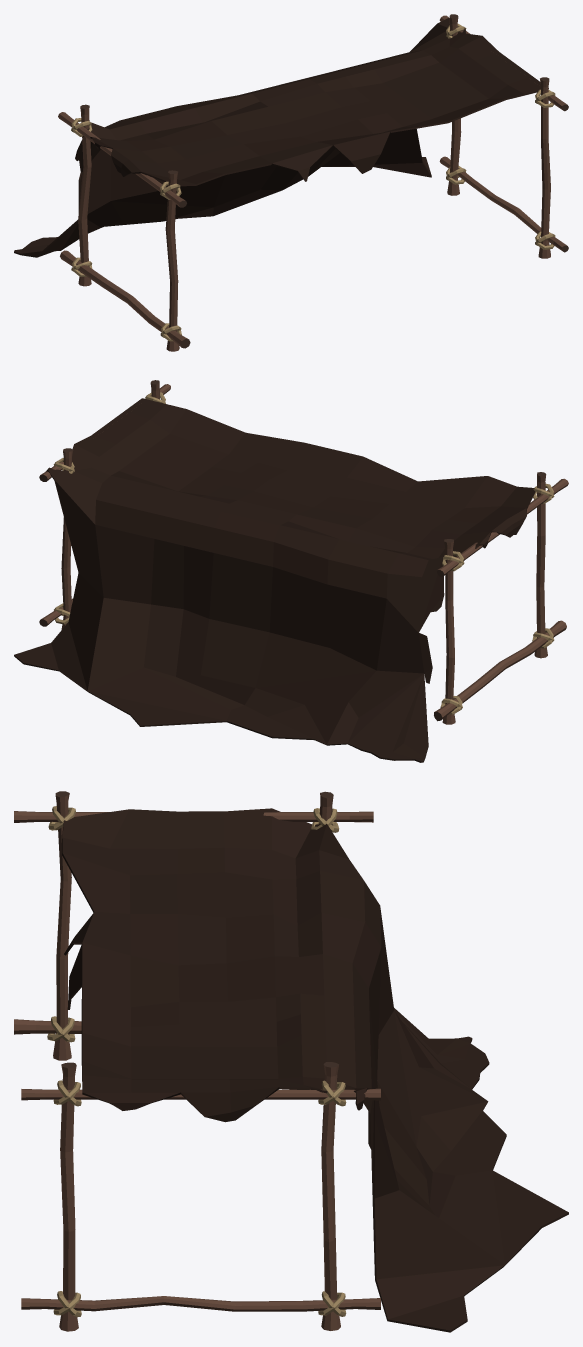
Rendered from Tent_04.gltf.
3 renders of one model, top to bottom at view 1: azimuth 30°, elevation 25°; view 2: azimuth 150°, elevation 25°; view 3: azimuth 270°, elevation 25°, orthographic. The views are drawn at different scales.
Parts seen in each view (by area): view 1: tent long.001; view 2: tent long.001; view 3: tent long.001.
Part boxes in pixels (box(x1,y1,x2,y2)): tent long.001: box(14, 14, 568, 351); tent long.001: box(14, 380, 568, 762); tent long.001: box(14, 791, 568, 1332).
Size of the model in its own units: 3.03 by 1.26 by 2.4.
Materials: 1 (1 with a texture image).
